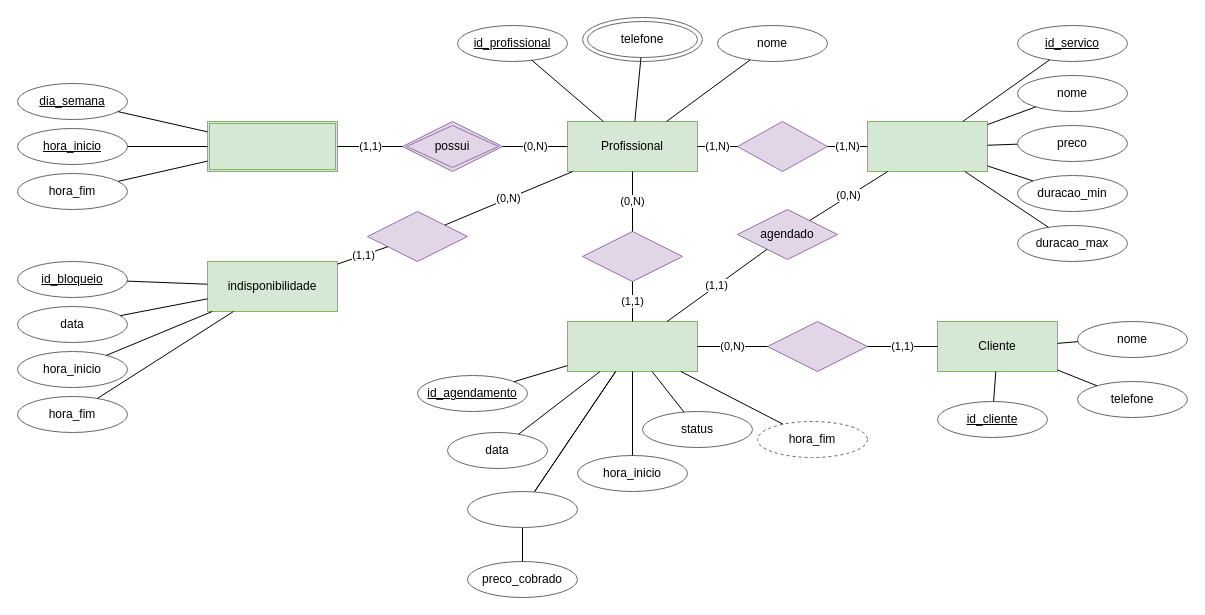
Image size: 1205x615. Some labels were removed from this diagram. Here are the shapes that lost their labels. From the top down, the centre of each, then its label:
At (272,146): "Expediente".
At (782,146): "realiza".
At (927,146): "Serviço".
At (417,236): "bloqueia".
At (632,256): "atende".
At (632,346): "Agendamento".
At (817,346): "faz".
At (522,509): "duracao_minutos".
